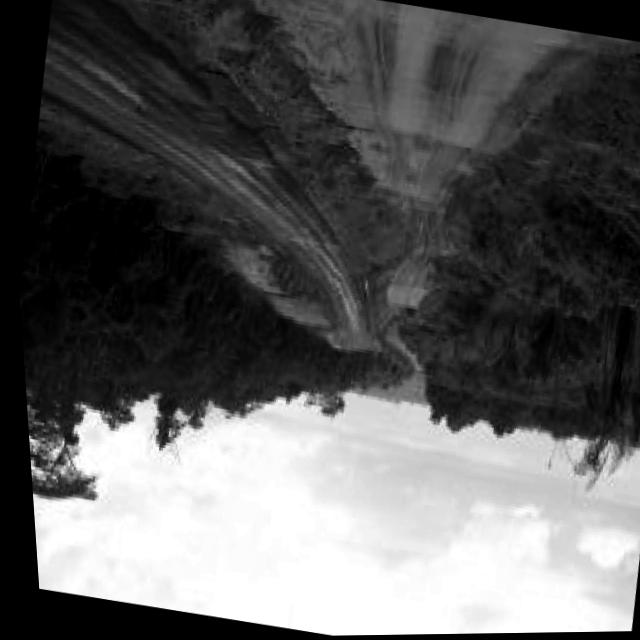cleat: (15, 16, 401, 354)
